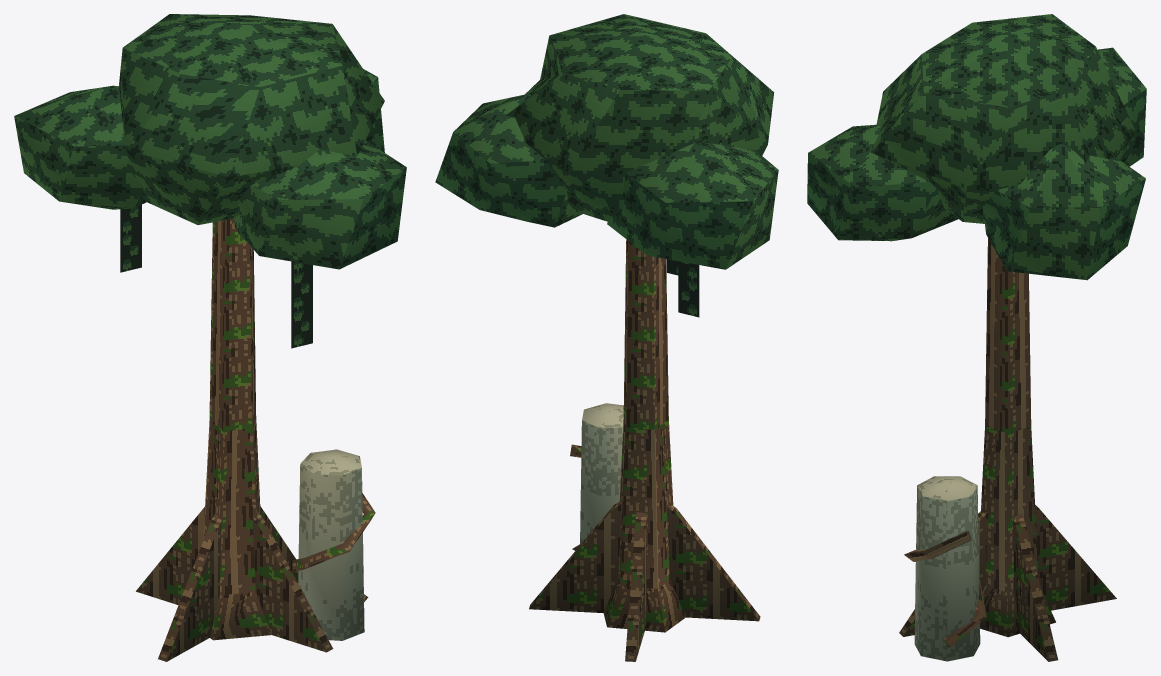
The model's file is wild.tree__strangler.glb.
3 renders of one model, left to right at view 1: azimuth 30°, elevation 25°; view 2: azimuth 150°, elevation 25°; view 3: azimuth 270°, elevation 25°, orthographic. The views are drawn at different scales.
Parts seen in each view (by area): view 1: kit_canopy, kit_trunk, kit_buttresses, kit_column, kit_shell_vines, kit_roots_wrap; view 2: kit_canopy, kit_trunk, kit_buttresses, kit_column, kit_shell_vines; view 3: kit_canopy, kit_trunk, kit_column, kit_buttresses, kit_roots_wrap.
Part boxes in pixels (box(x1,y1,x2,y2)): kit_canopy: box(14, 14, 406, 269); kit_trunk: box(203, 218, 271, 640); kit_buttresses: box(136, 506, 333, 661); kit_column: box(298, 449, 364, 640); kit_shell_vines: box(120, 204, 312, 348); kit_roots_wrap: box(292, 493, 375, 601); kit_canopy: box(435, 14, 778, 269); kit_trunk: box(603, 239, 685, 632); kit_buttresses: box(529, 501, 760, 661); kit_column: box(580, 403, 623, 544); kit_shell_vines: box(666, 259, 699, 317); kit_canopy: box(807, 14, 1146, 280); kit_trunk: box(980, 238, 1055, 637); kit_column: box(914, 476, 980, 661); kit_buttresses: box(899, 504, 1116, 661); kit_roots_wrap: box(904, 531, 986, 647).
Bounding box in the file's own units: 5.66 × 9.43 × 5.03.
Materials: 4 (4 with a texture image).
